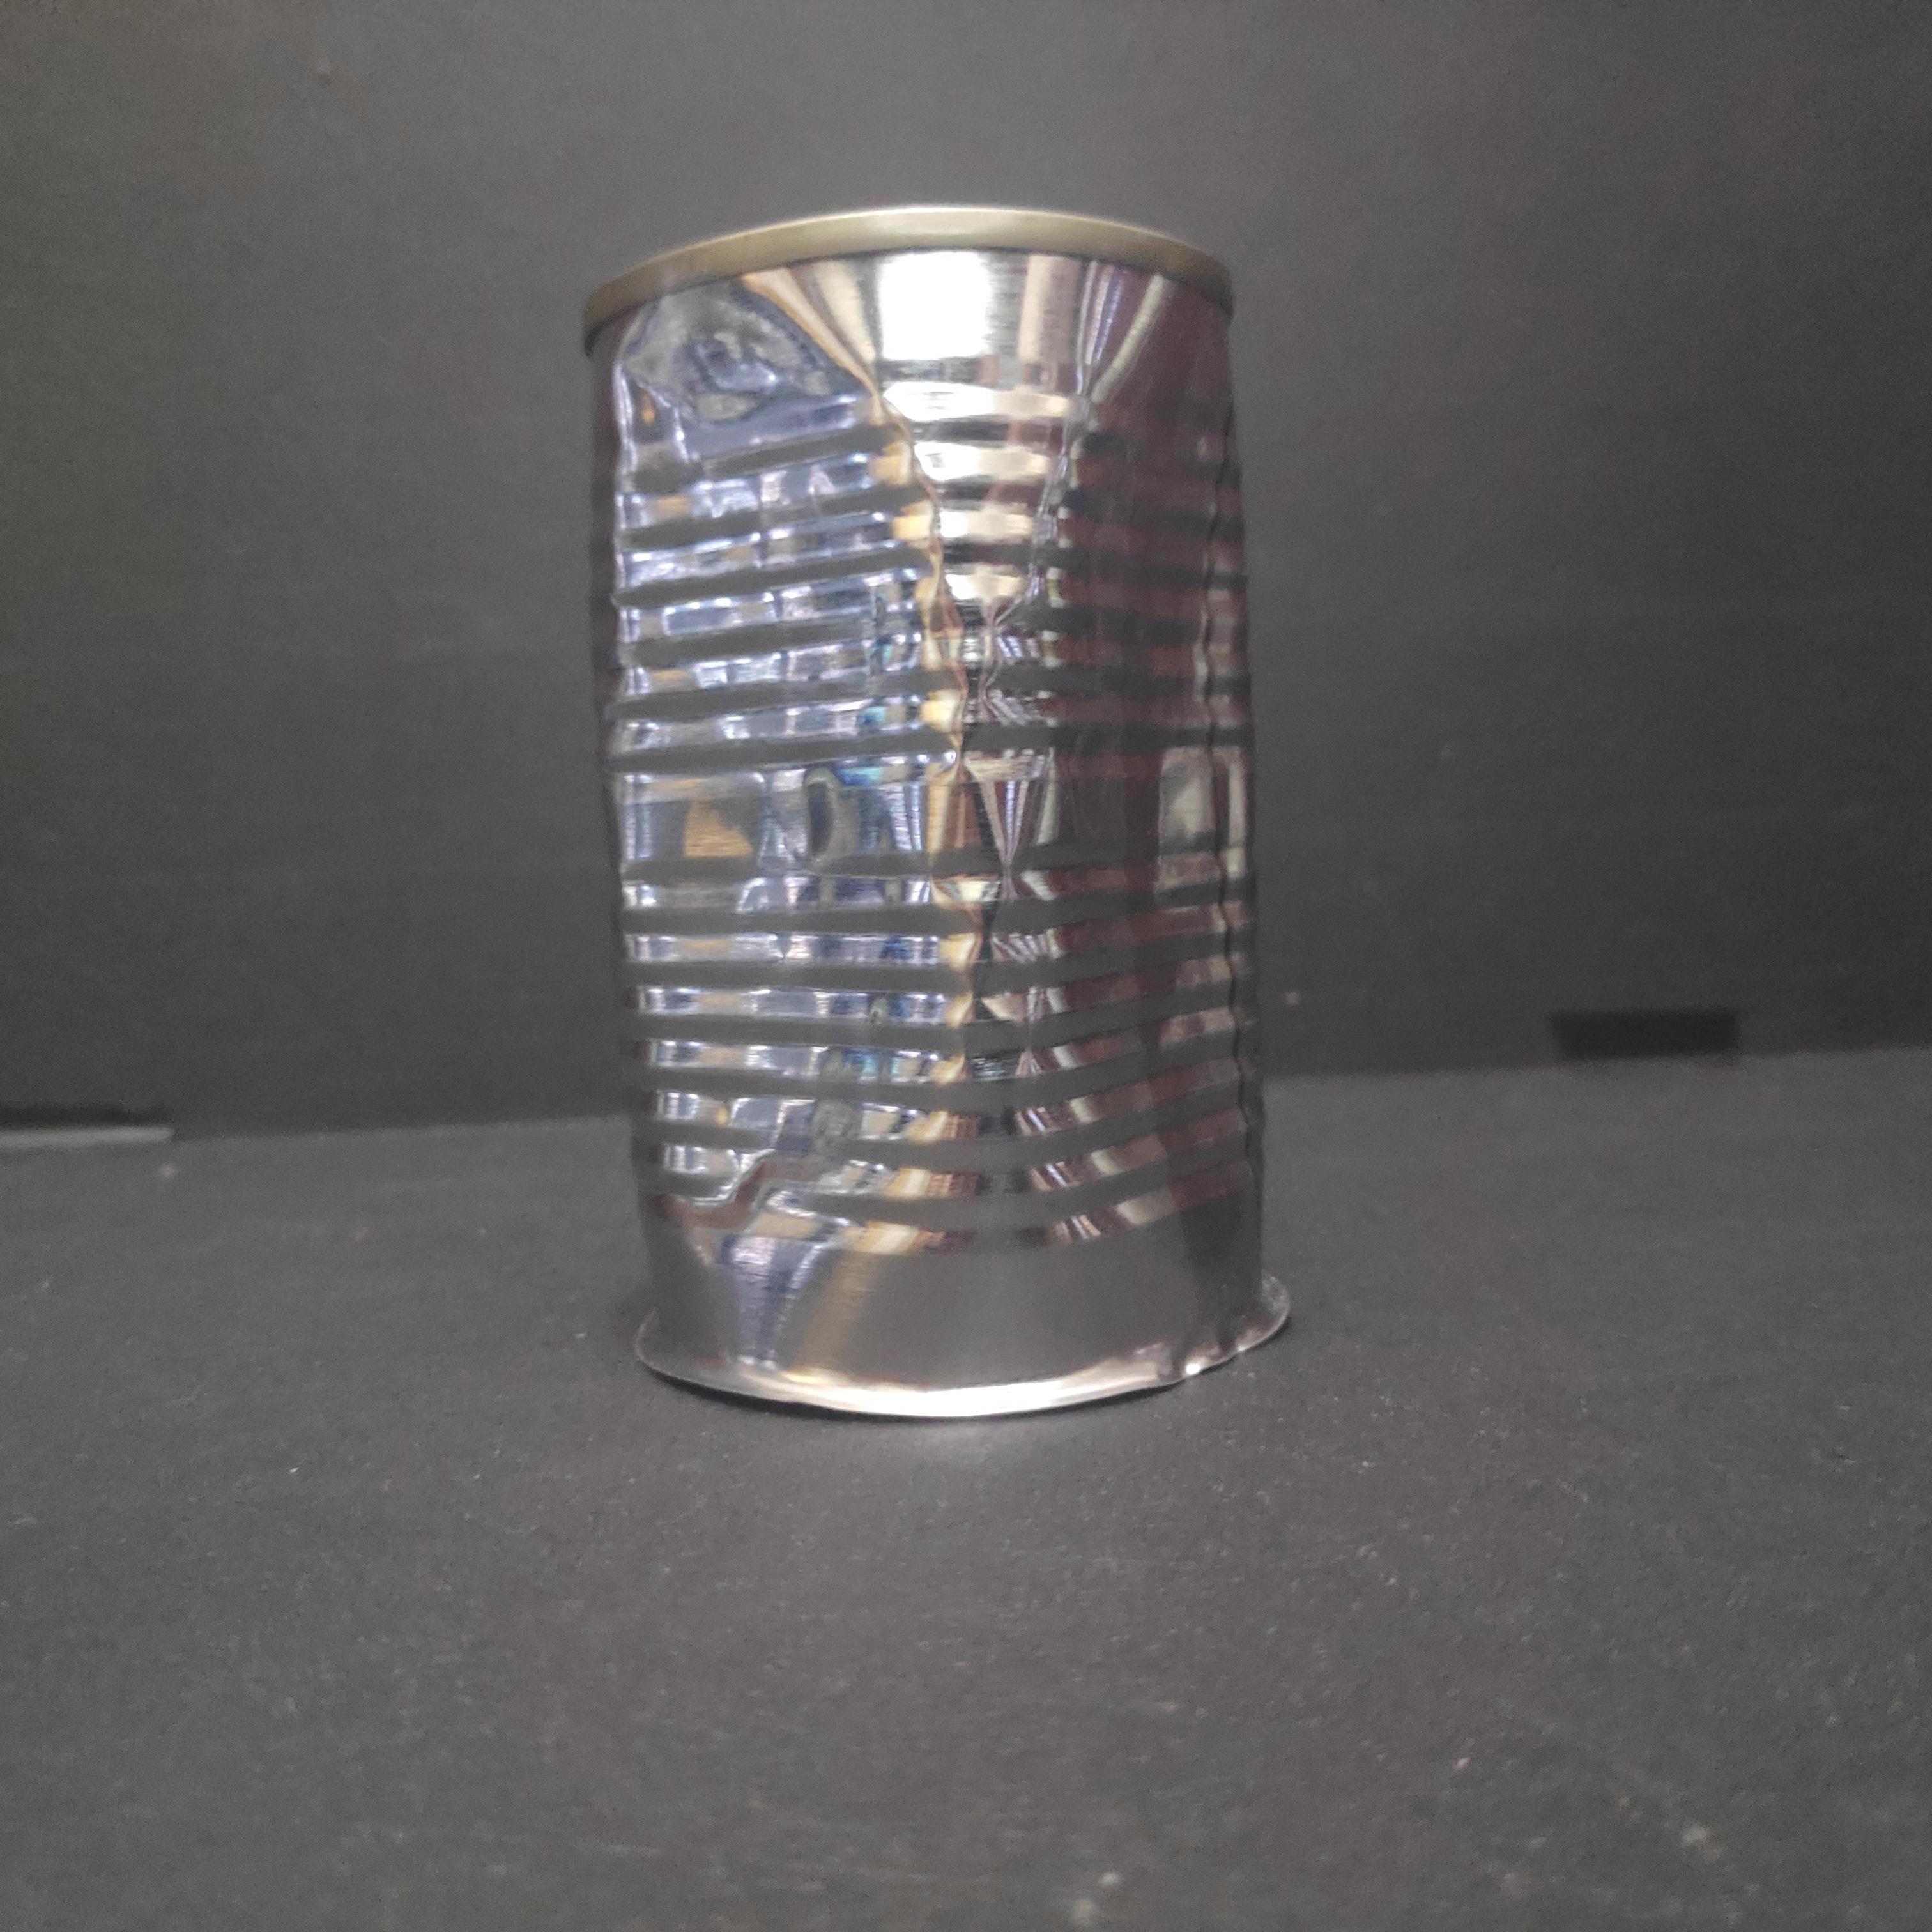Dented: (568, 191, 1309, 1447)
